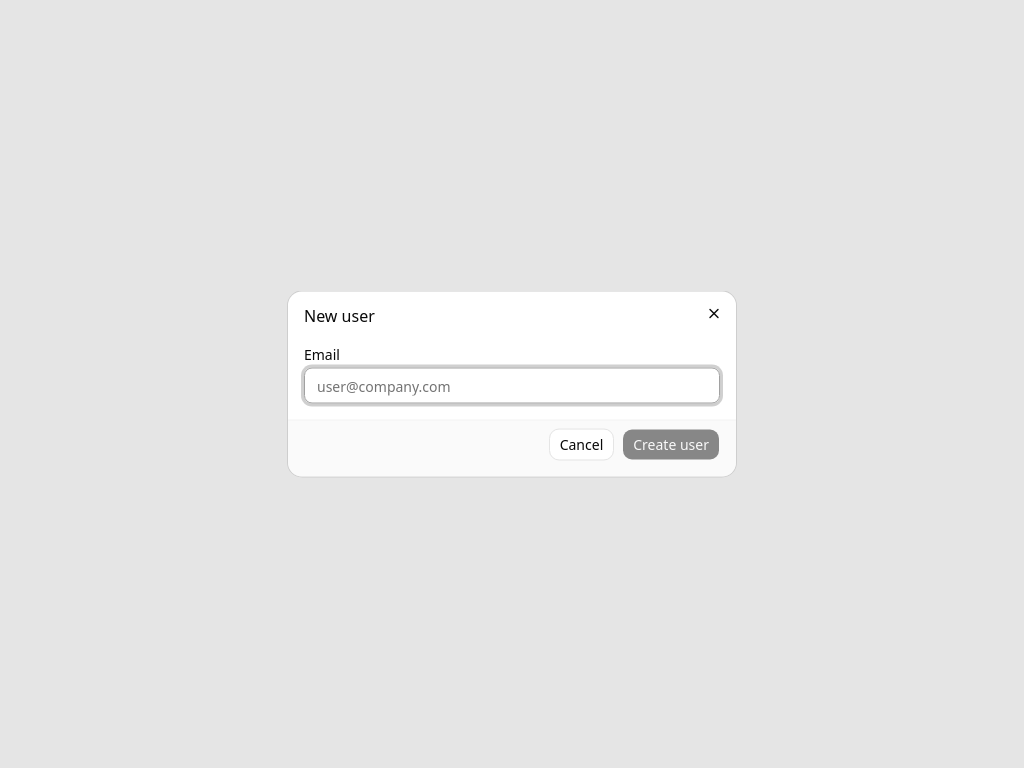
Test case: CreateUserDialog — email validation › enables submit button with a valid email
Expected: the heading "New user" is shown, [304, 304, 375, 326]
Type "valid@company.com" into the field with placeholder "user@company.com" at point(512, 386), box [304, 368, 720, 404]
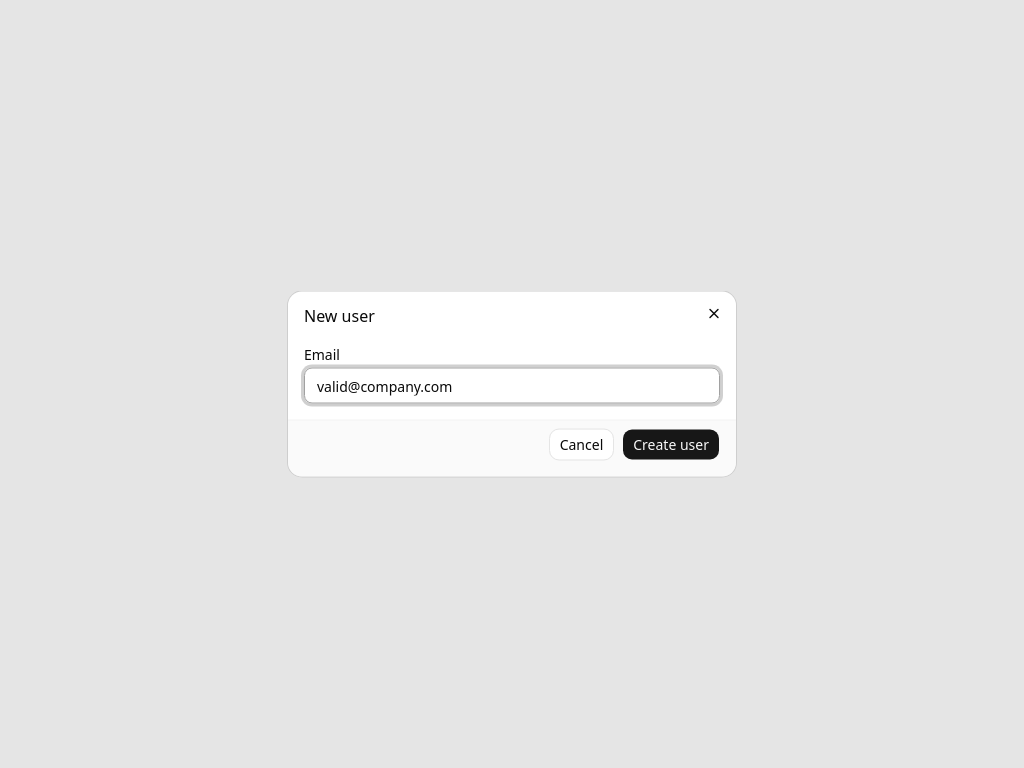
Expected: the button "Create user" is enabled, [622, 428, 720, 460]
